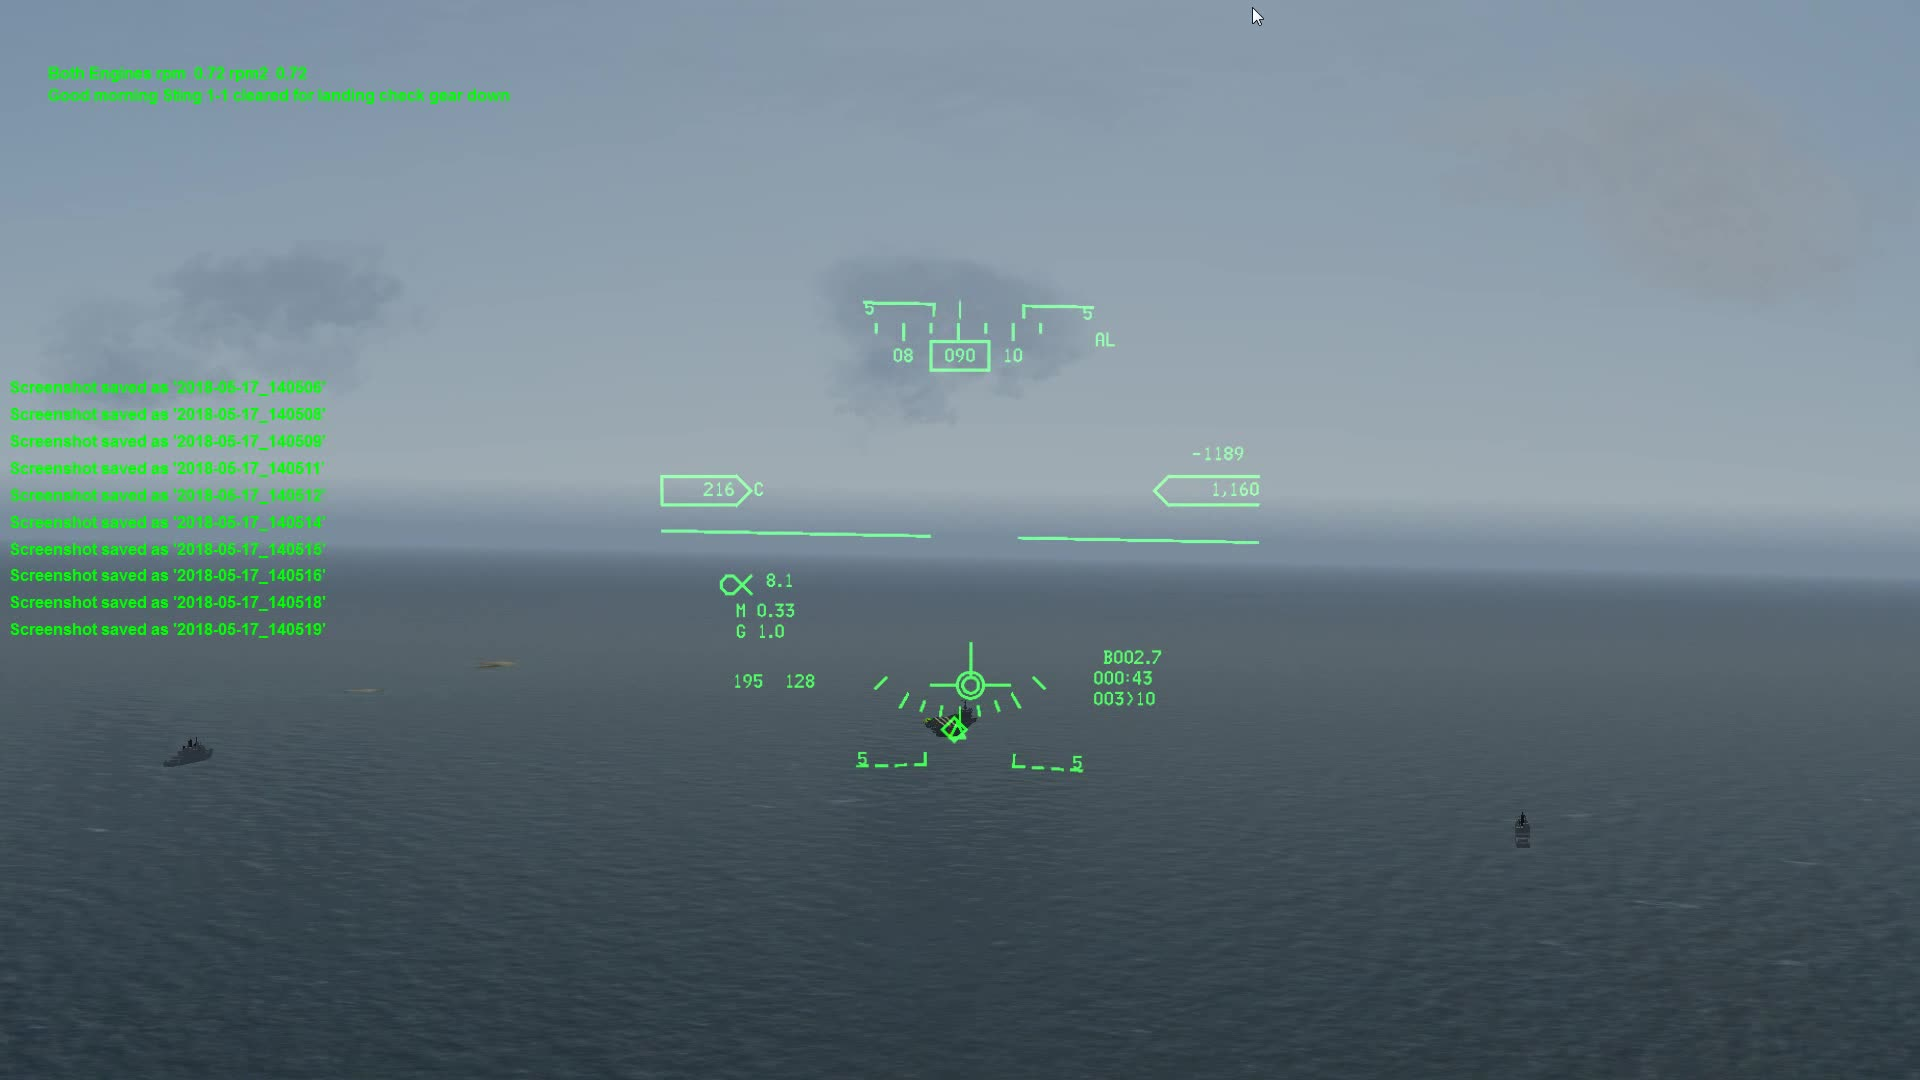speed vector: (928, 641, 1004, 703)
